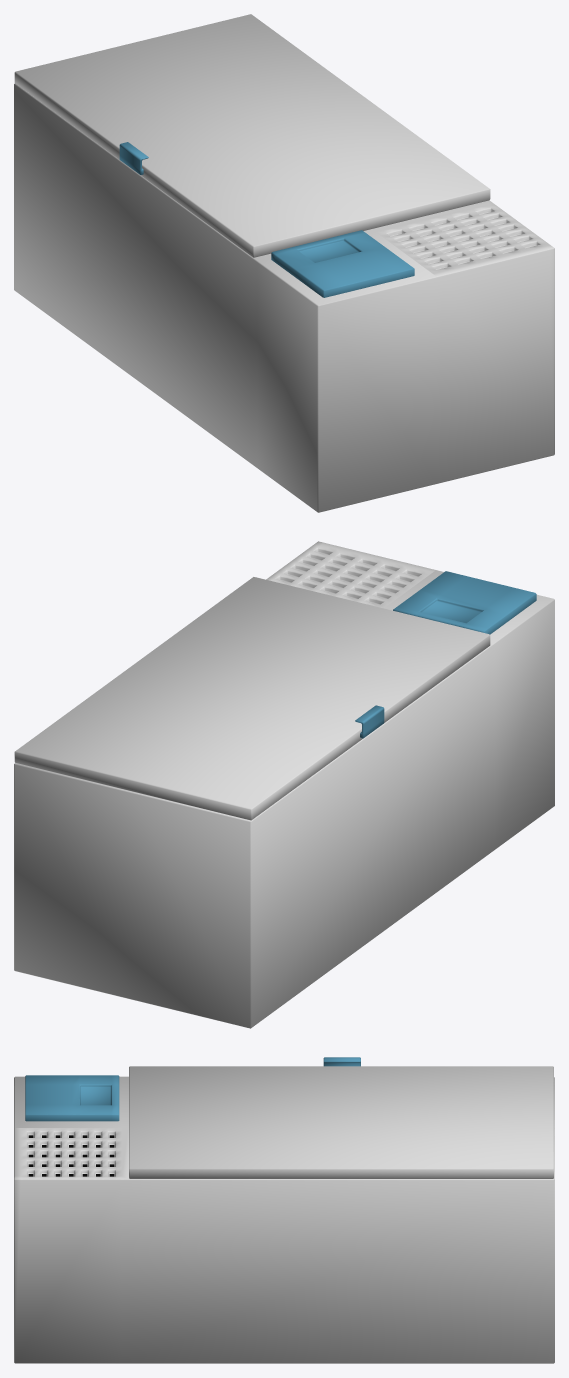
The model's file is МКН.fbx.
The picture shows the model from 3 angles, top to bottom: view 1: azimuth 30°, elevation 25°; view 2: azimuth 150°, elevation 25°; view 3: azimuth 270°, elevation 25°; orthographic projection. The views are drawn at different scales.
Parts seen in each view (by area): view 1: Cube; view 2: Cube; view 3: Cube.
Boxes of the visible parts, <box> form: Cube: <box>14,14,554,512</box>; Cube: <box>14,541,554,1028</box>; Cube: <box>14,1057,554,1363</box>.
Size of the model in its own units: 74.07 by 66.89 by 162.
